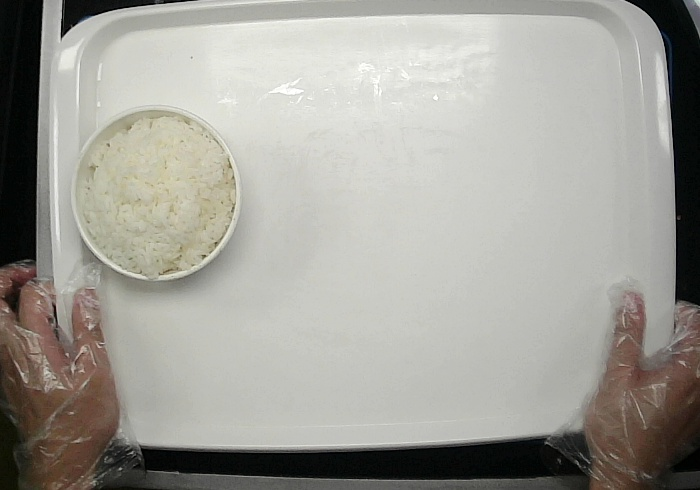HZYJPL-Fan_Wan: (69, 104, 242, 281)
